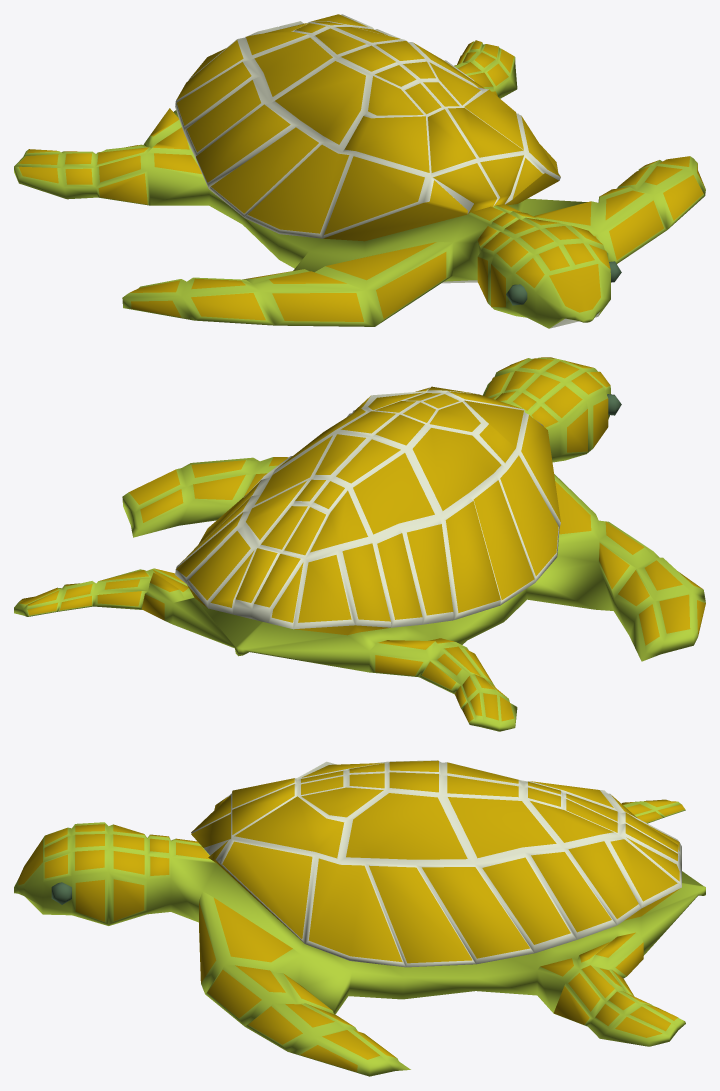
File: turtle.glb
3 views of the same model, one above another, from view 1: azimuth 30°, elevation 25°; view 2: azimuth 150°, elevation 25°; view 3: azimuth 270°, elevation 25° (orthographic).
Visible parts, largest first — view 1: Turtle.1; view 2: Turtle.1; view 3: Turtle.1.
Boxes of the visible parts, x1,y1,x2,y2 form: Turtle.1: (14, 14, 705, 328); Turtle.1: (14, 357, 705, 731); Turtle.1: (14, 760, 705, 1076).
Size of the model in its own units: 676 by 204 by 718.
